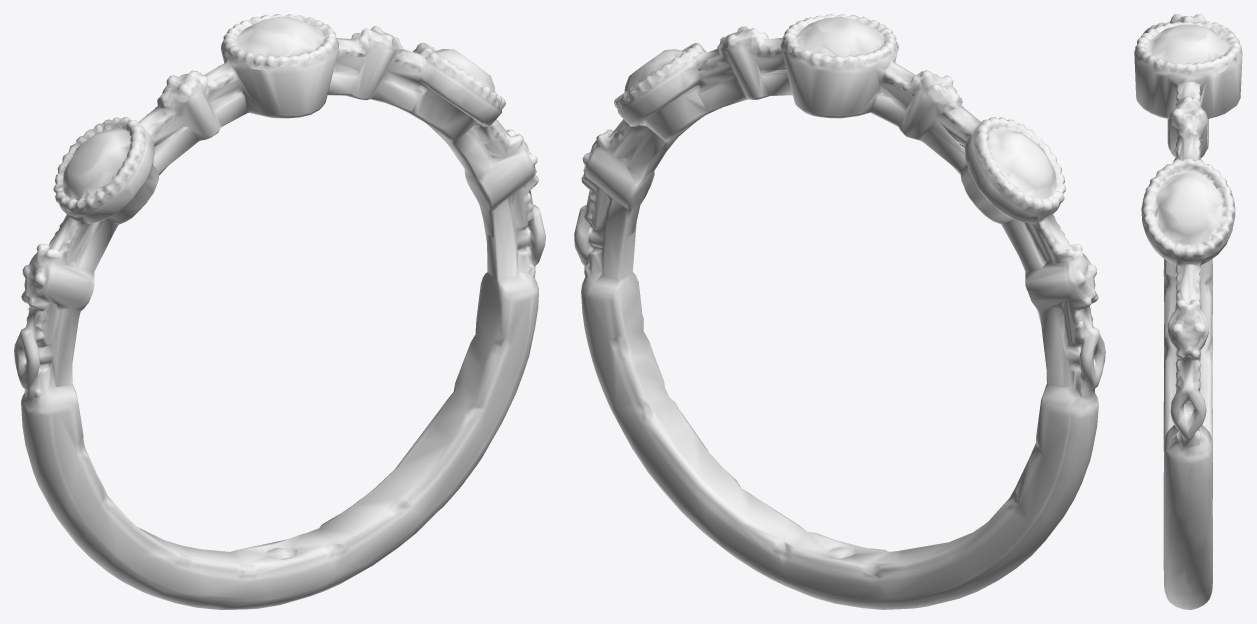
The model's file is ring.glb.
3 renders of one model, left to right at view 1: azimuth 30°, elevation 25°; view 2: azimuth 150°, elevation 25°; view 3: azimuth 270°, elevation 25°, orthographic. The views are drawn at different scales.
Visible parts, largest first — view 1: Mesh1.0; view 2: Mesh1.0; view 3: Mesh1.0.
Boxes of the visible parts, left/top/right/bottom form: Mesh1.0: left=14, top=14, right=545, bottom=609; Mesh1.0: left=574, top=14, right=1105, bottom=609; Mesh1.0: left=1134, top=14, right=1242, bottom=609.
Size of the model in its own units: 1.8 by 1.91 by 0.3401.
1 material, 1 textured.
